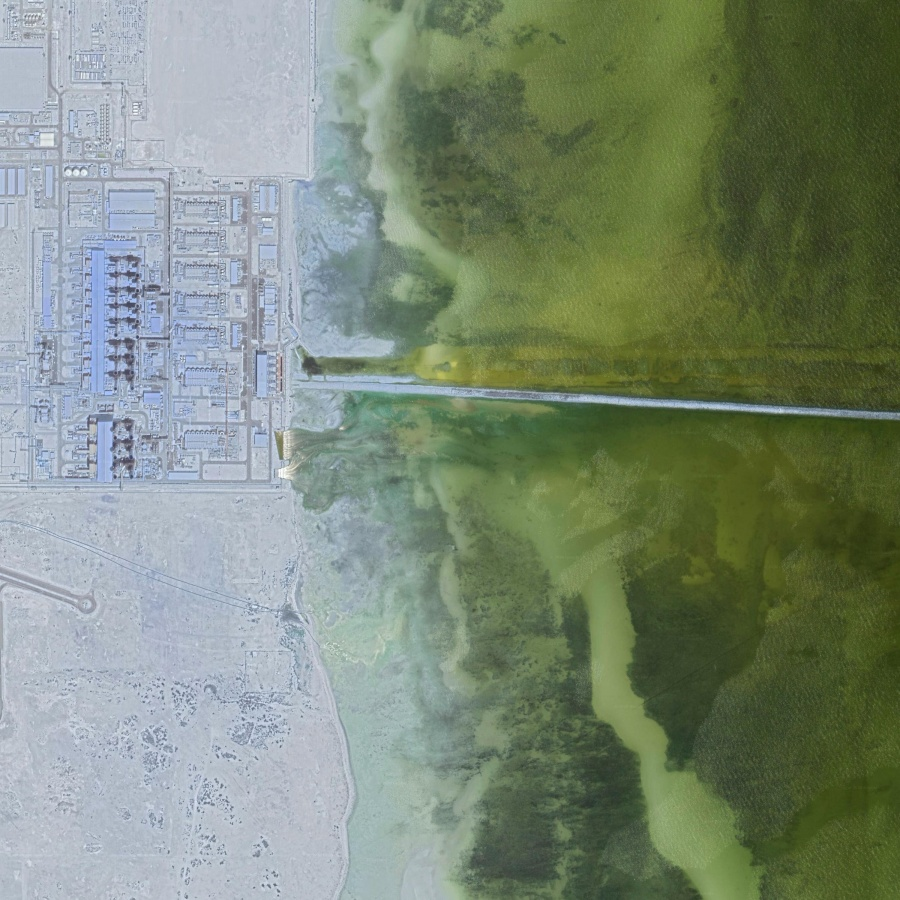PowerPlant: (52, 157, 314, 483)
